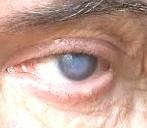eye: (57, 52, 97, 82)
